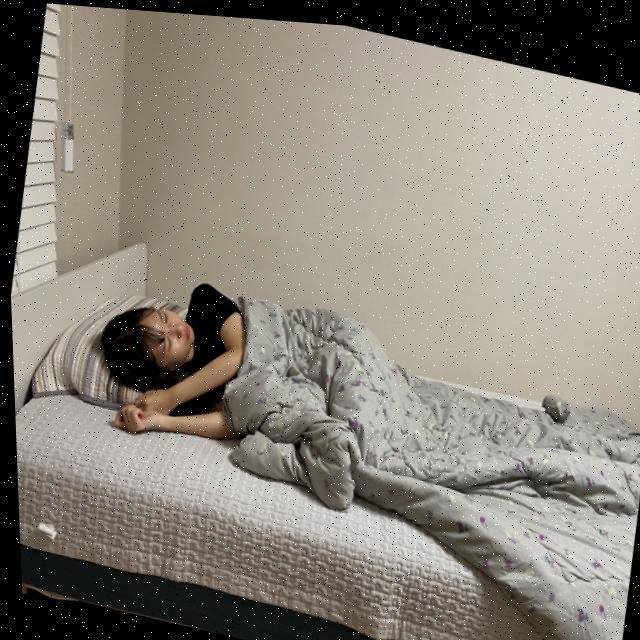sleeping-person: (75, 235, 640, 564)
